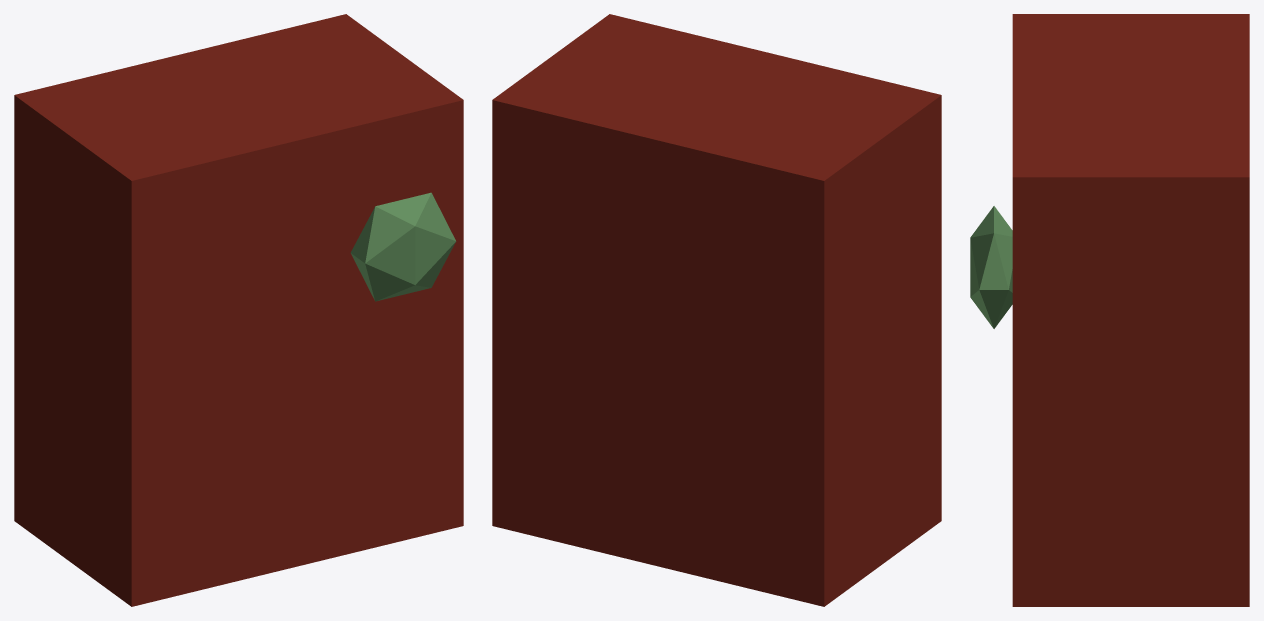
File: body.glb
3 renders of one model, left to right at view 1: azimuth 30°, elevation 25°; view 2: azimuth 150°, elevation 25°; view 3: azimuth 270°, elevation 25°, orthographic.
Visible parts, largest first — view 1: chest, chest_emblem; view 2: chest; view 3: chest, chest_emblem.
Boxes of the visible parts, x1,y1,x2,y2 form: chest: (14,14,463,606); chest_emblem: (350,192,456,301); chest: (492,14,941,606); chest: (1012,14,1249,606); chest_emblem: (970,206,1012,328).
Bounding box in the file's own units: 0.62 × 0.76 × 0.4483.
